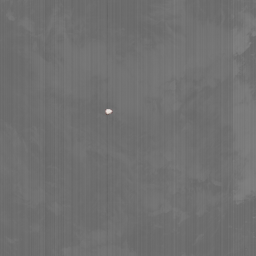Target: (104, 108, 113, 115)
